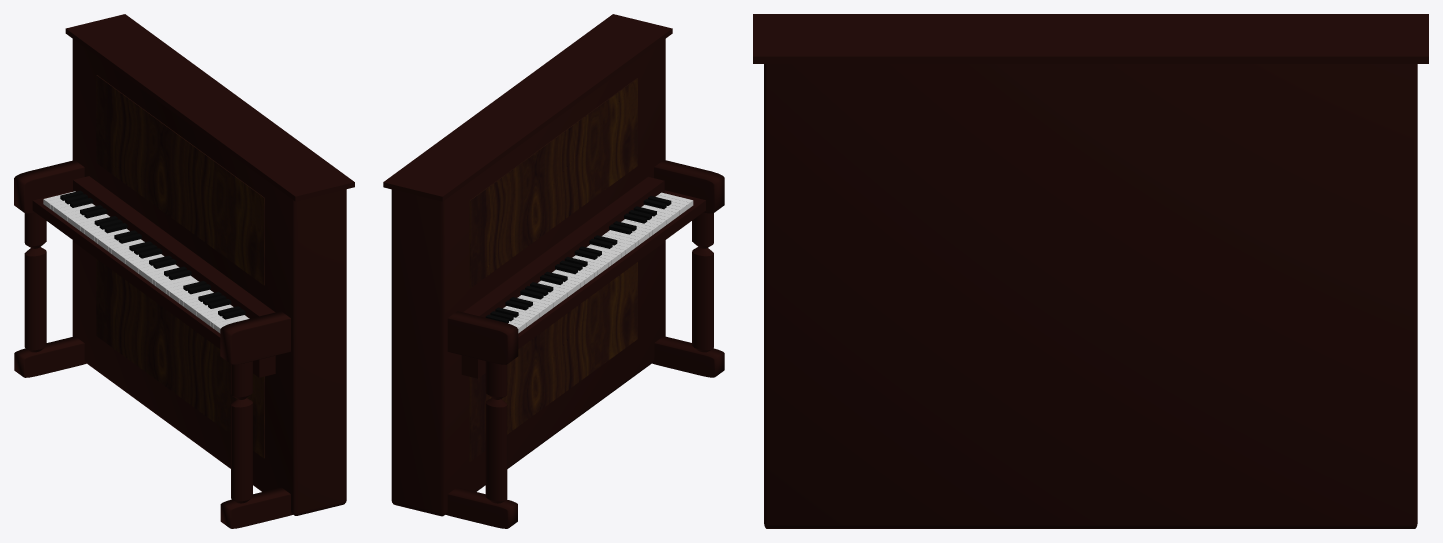
Rendered from klavierfertig.FBX.
3 views of the same model, side by side, from view 1: azimuth 30°, elevation 25°; view 2: azimuth 150°, elevation 25°; view 3: azimuth 270°, elevation 25° (orthographic). The views are drawn at different scales.
Visible parts, largest first — view 1: klavier; view 2: klavier; view 3: klavier.
Boxes of the visible parts, left/top/right/bottom form: klavier: left=14, top=14, right=354, bottom=528; klavier: left=383, top=14, right=724, bottom=528; klavier: left=753, top=14, right=1428, bottom=528.
Bounding box in the file's own units: 16.87 × 44.23 × 56.77.
4 materials, 2 textured.
